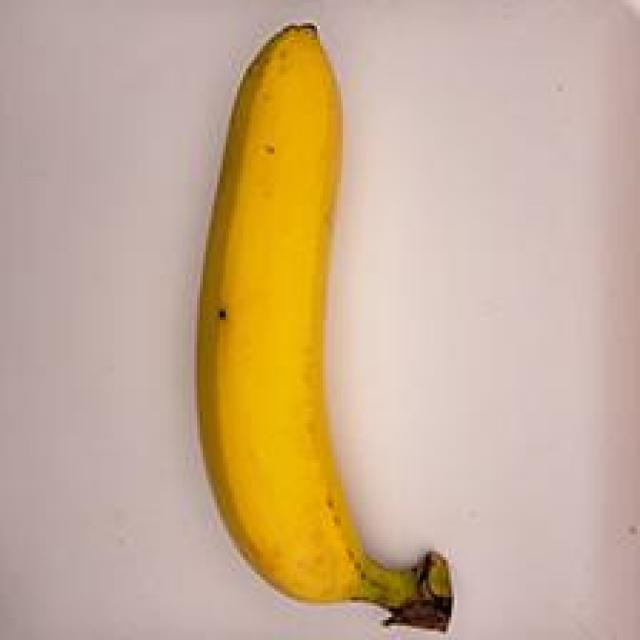Ripe: (171, 14, 500, 640)
